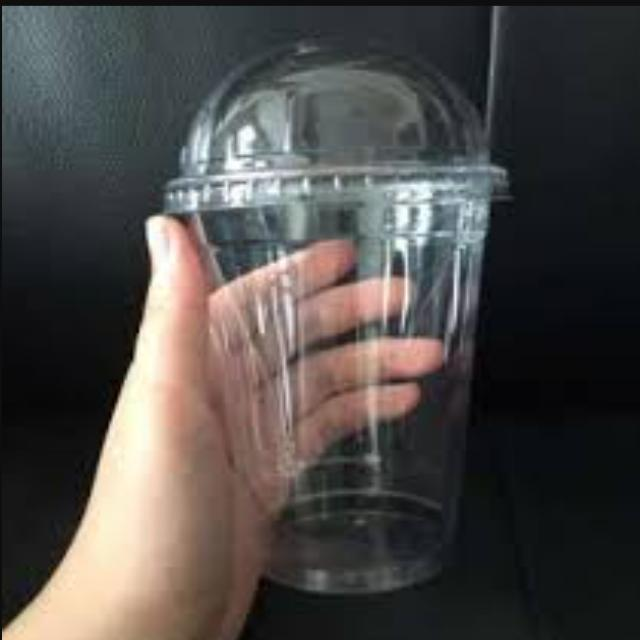GelasPlastik: (159, 32, 514, 596)
